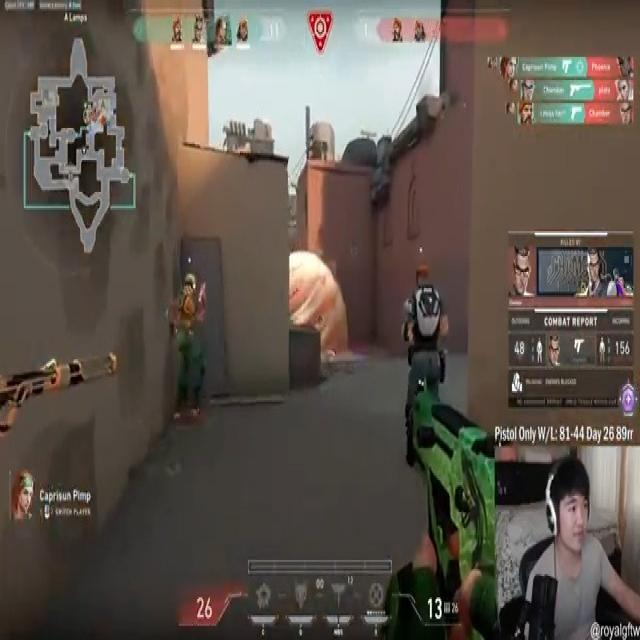ally: (402, 266, 445, 463), (163, 262, 213, 420)
gun: (0, 346, 122, 434)
smoke: (290, 247, 348, 361)
